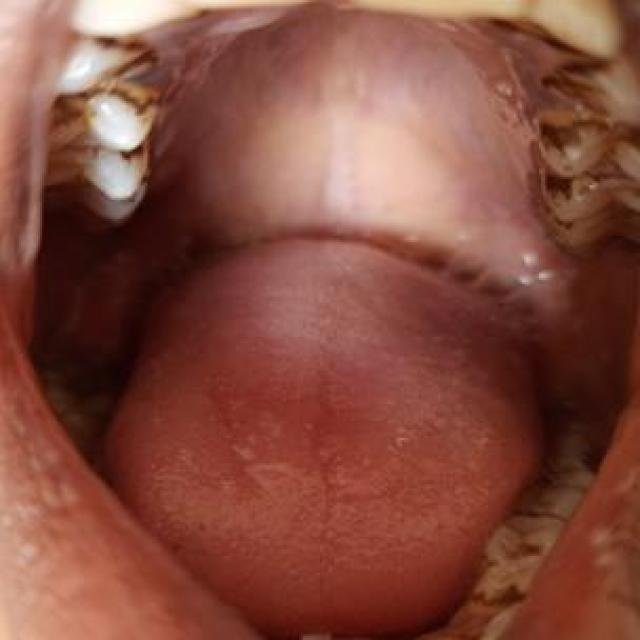processing_area: (106, 11, 575, 633)
